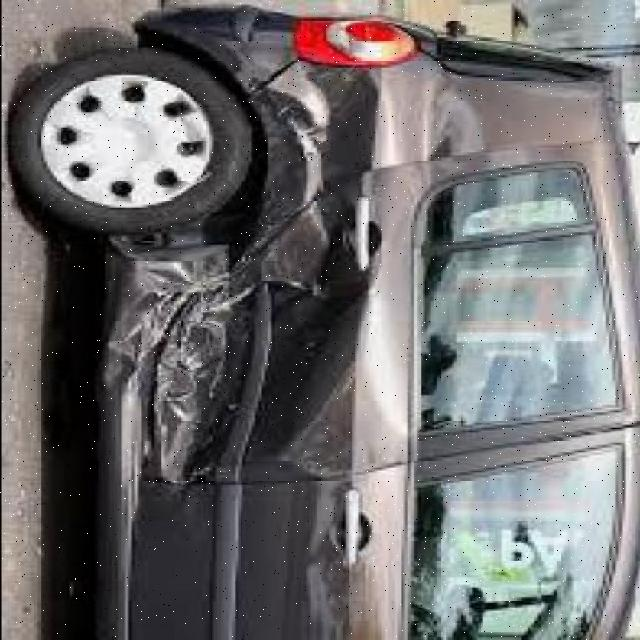damage: (93, 63, 490, 492)
